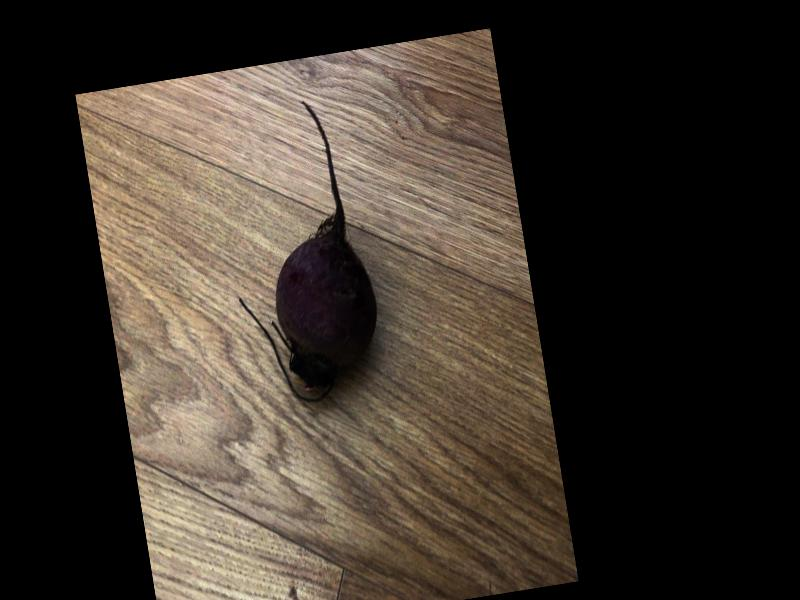Beet: (209, 93, 390, 410)
